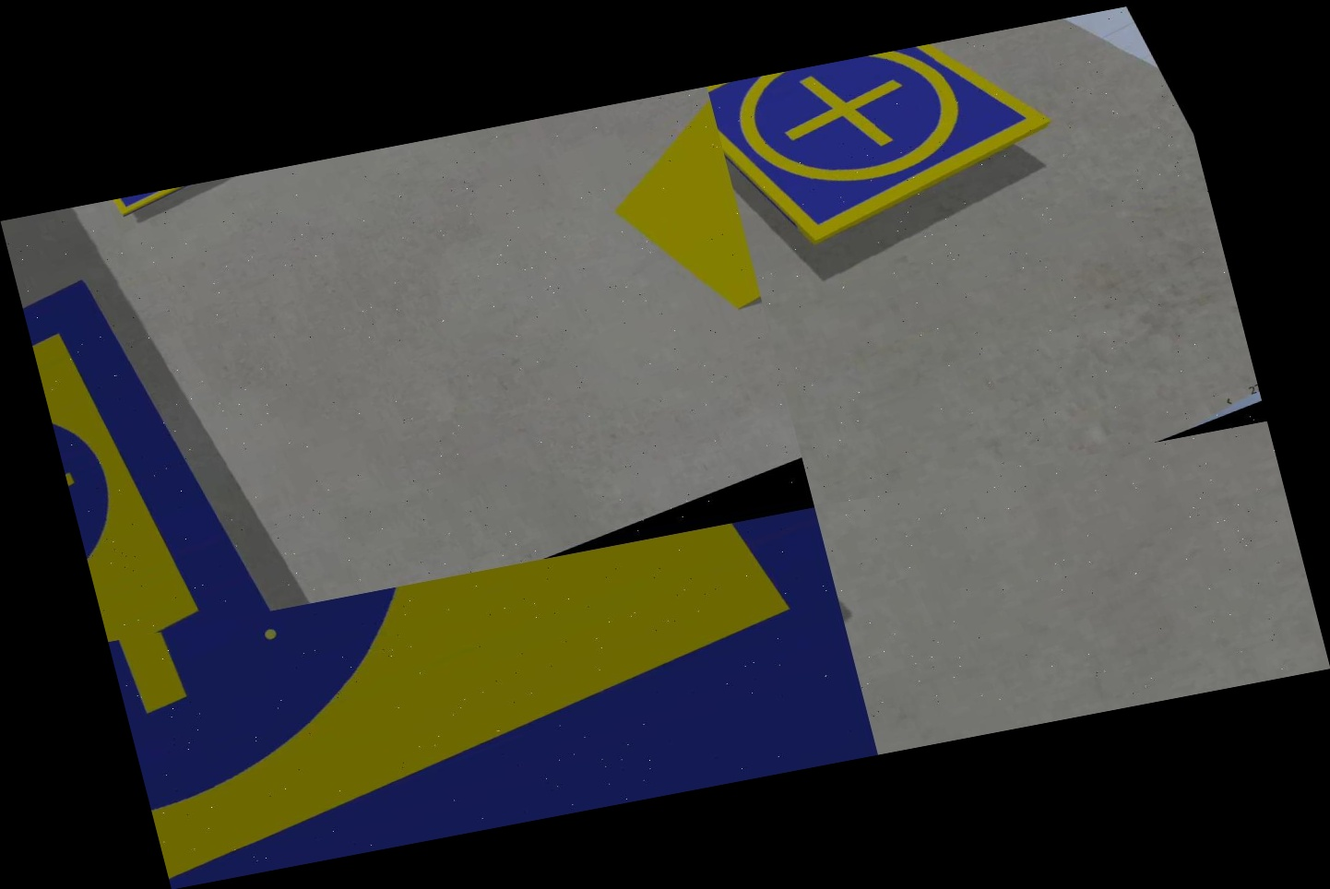large_base: (108, 507, 878, 888), (18, 255, 284, 642)
small_base: (707, 24, 1082, 266)
